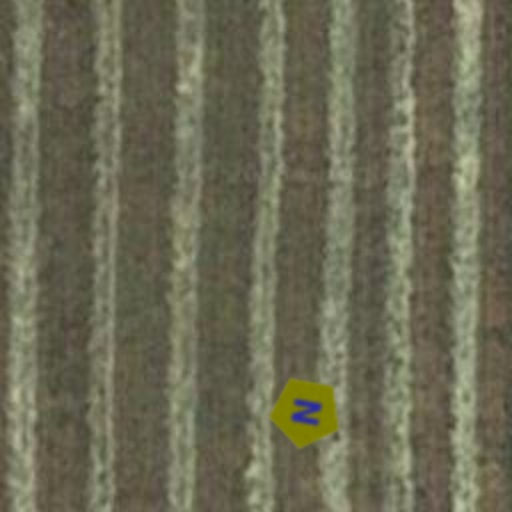pentagon: (262, 368, 350, 456)
